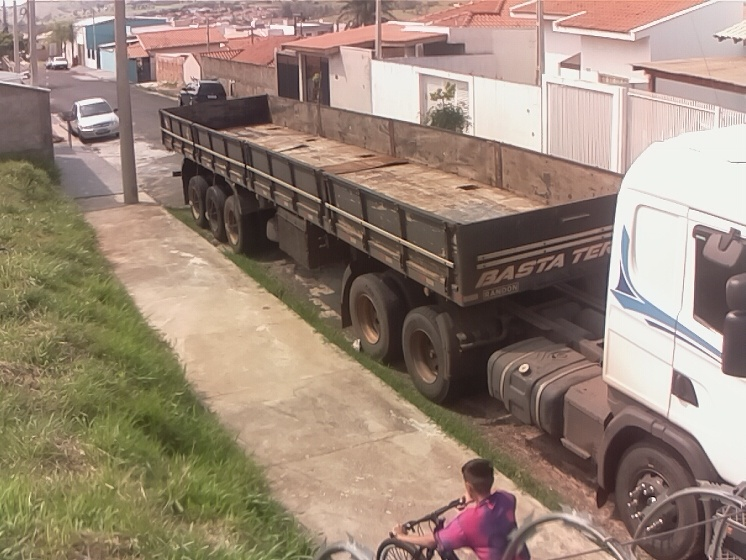person: (388, 457, 535, 560)
